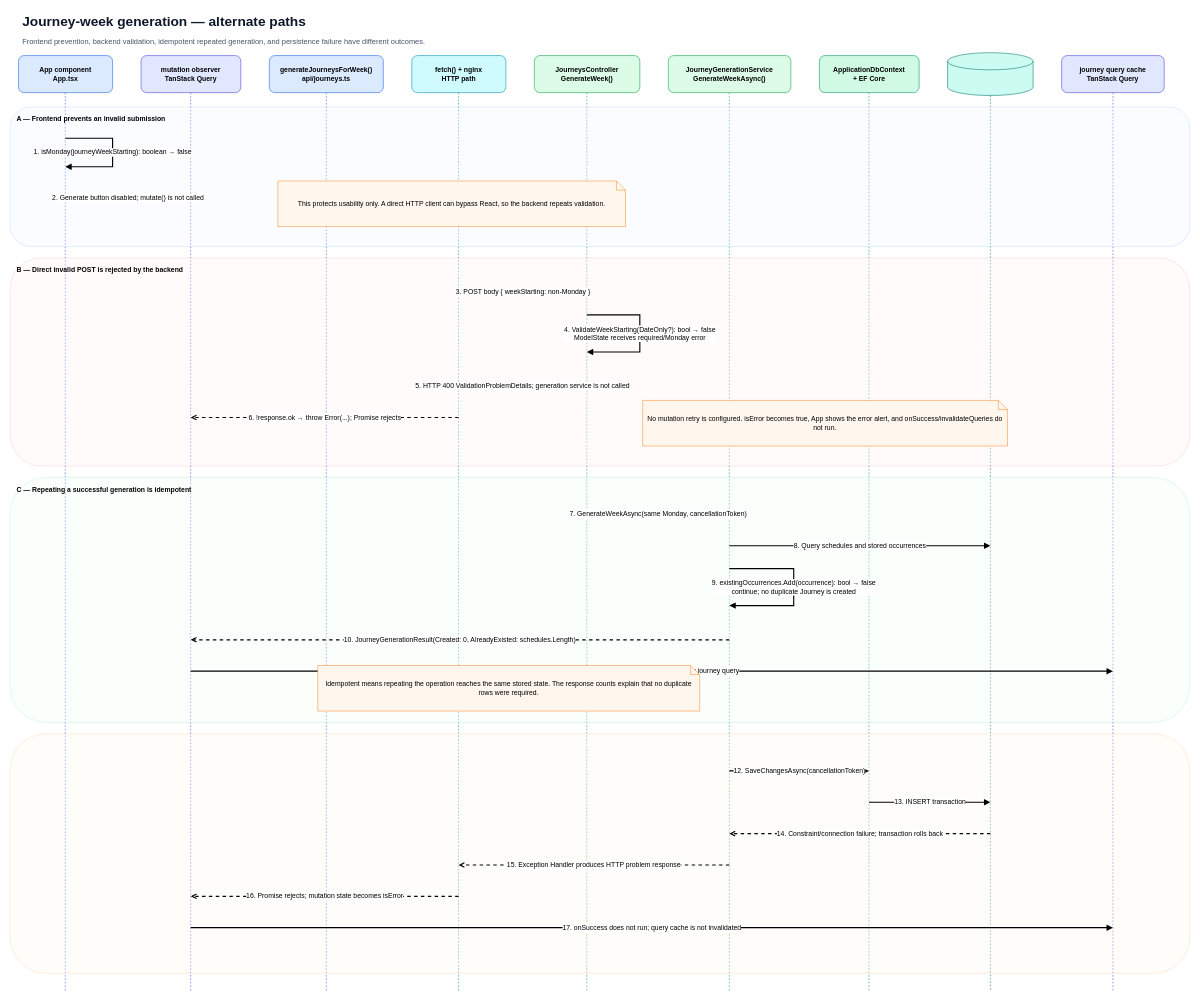
The diagram is 1200 pixels wide and 1001 high, and some of its shapes have lost their labels. The centre of each missing label's shape, as x and y in pixels:
D — Persistence fails: point (599, 853)
PostgreSQL: point (990, 73)
